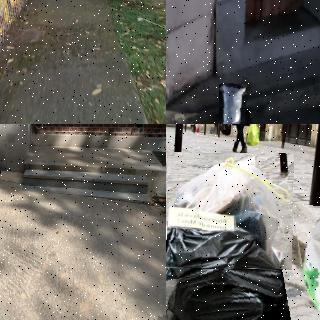Garbage: (166, 208, 309, 320), (167, 153, 293, 270), (281, 206, 320, 320), (217, 83, 246, 124)
